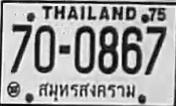0: (34, 24, 55, 72), (74, 25, 94, 73)
6: (121, 25, 141, 73)
7: (144, 25, 166, 74), (10, 24, 31, 72)
8: (98, 25, 117, 73)
SKM: (35, 79, 138, 101)
